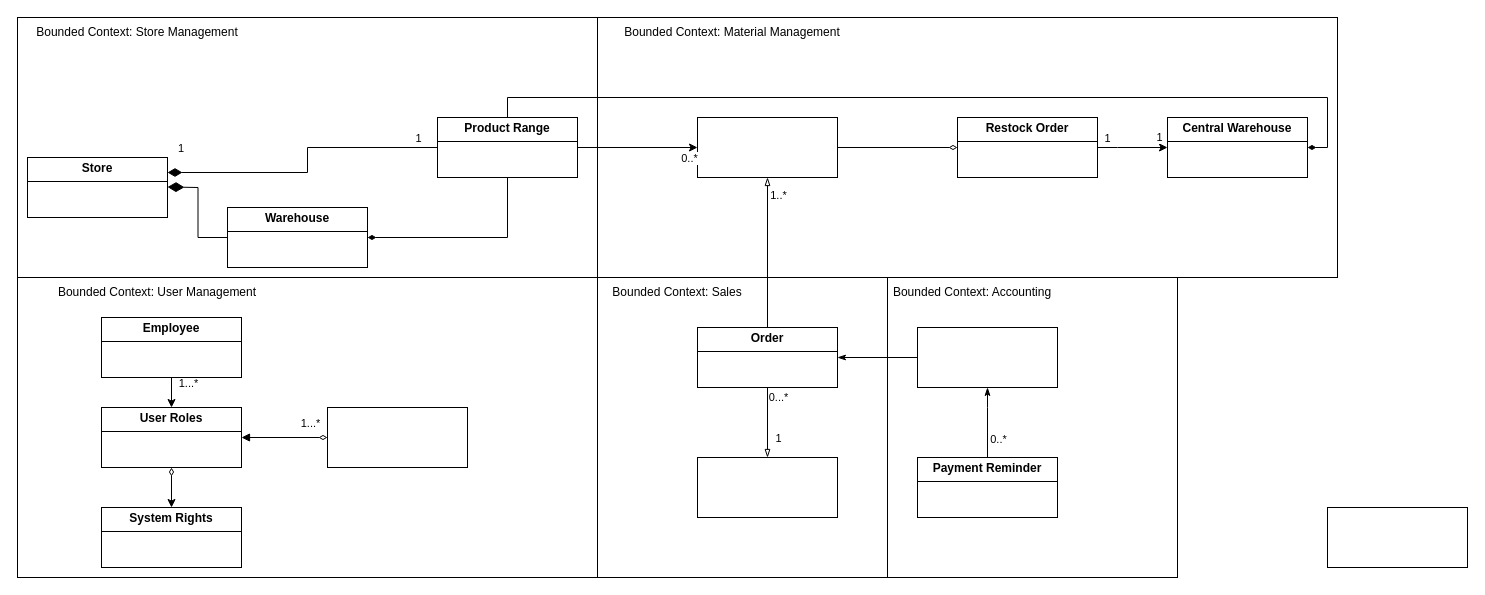
The diagram is 1485 pixels wide and 595 high, and some of its shapes have lost their labels. The centre of each missing label's shape, as x and y in pixels:
"Article" belongs at point (767, 147).
"Customer" belongs at point (767, 487).
"Delivery" belongs at point (1397, 537).
"Invoice" belongs at point (987, 357).
"User" belongs at point (397, 437).
